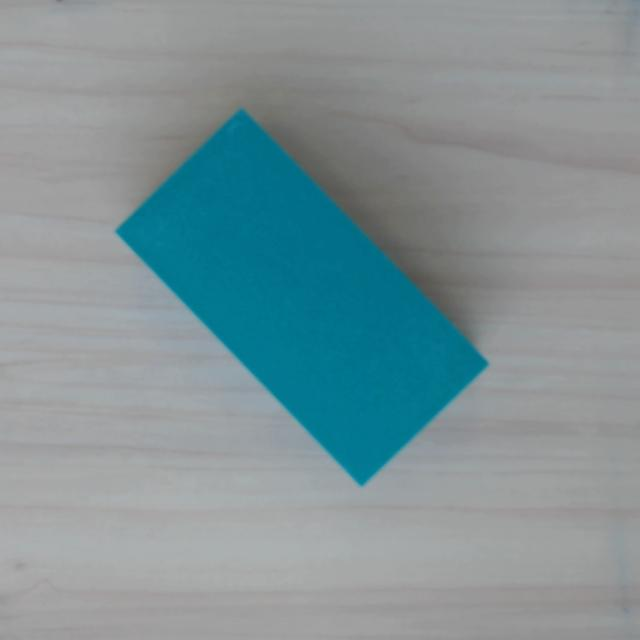Balok-Hijau-1005025: (114, 108, 490, 487)
